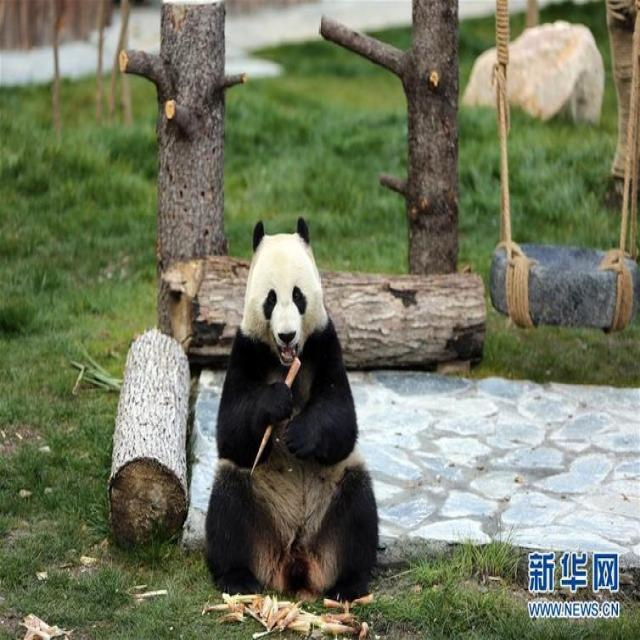panda: (204, 221, 413, 628)
